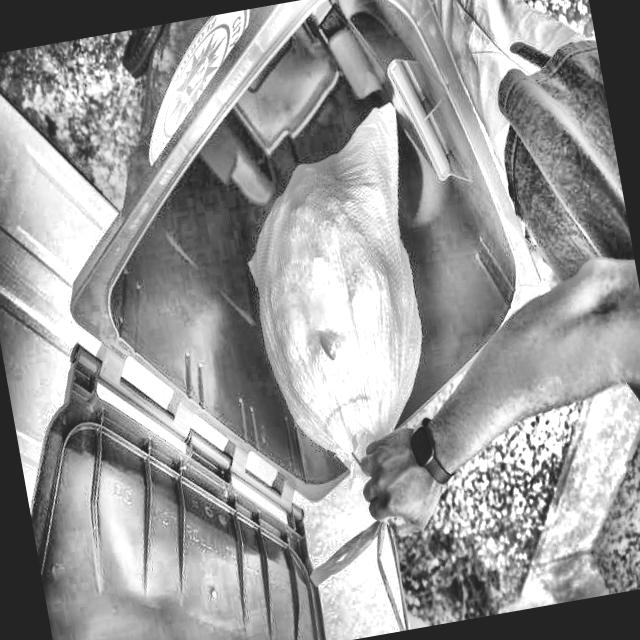Empty: (66, 19, 574, 508)
